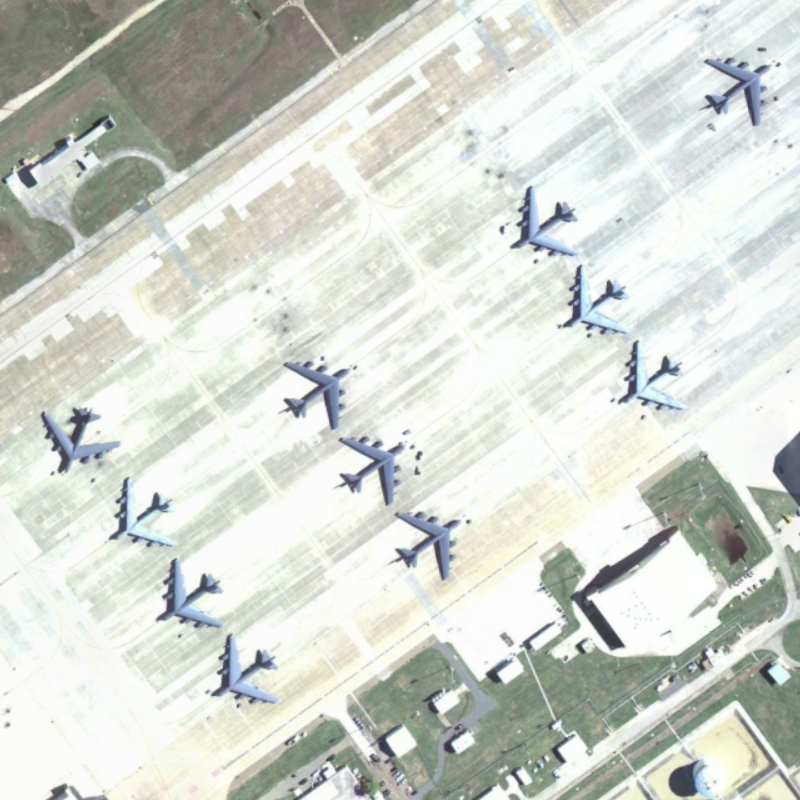A8: (277, 351, 355, 436), (37, 400, 122, 477), (384, 506, 463, 584), (503, 182, 580, 261), (614, 337, 689, 417), (208, 628, 281, 709), (700, 52, 774, 131), (154, 553, 227, 633), (336, 429, 408, 509), (106, 473, 177, 553), (558, 260, 630, 338)
